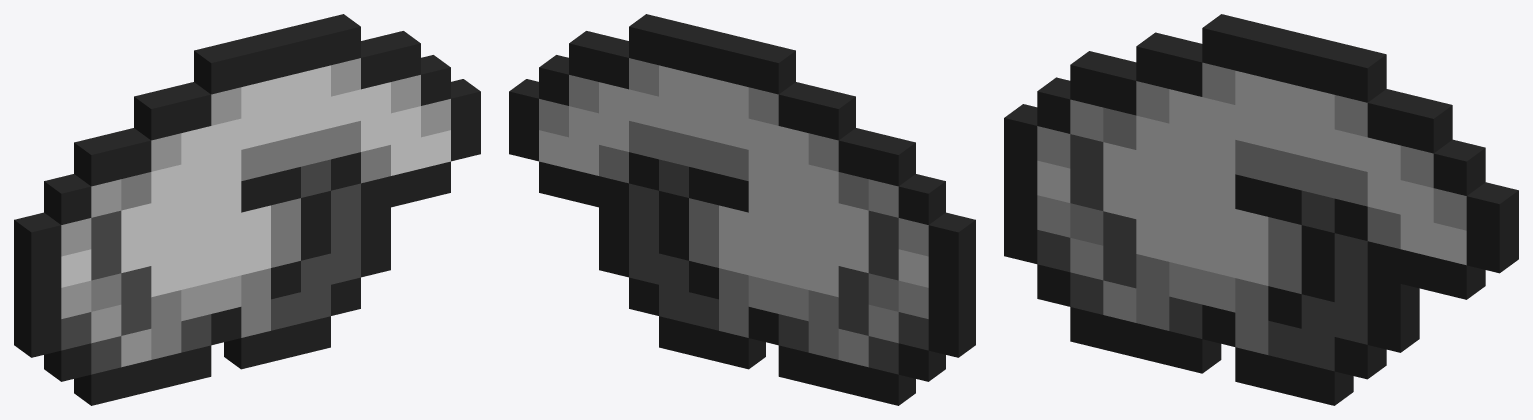
Rendered from MenuCursor.fbx.
The picture shows the model from 3 angles, left to right: view 1: azimuth 30°, elevation 25°; view 2: azimuth 150°, elevation 25°; view 3: azimuth 330°, elevation 25°; orthographic projection. The views are drawn at different scales.
Visible parts, largest first — view 1: Matrix; view 2: Matrix; view 3: Matrix.
Part boxes in pixels (x1,y1,x2,y2): Matrix: (14, 14, 480, 405); Matrix: (509, 14, 975, 405); Matrix: (1004, 14, 1518, 405).
Size of the model in its own units: 15 by 10 by 1.
1 material, 1 textured.
